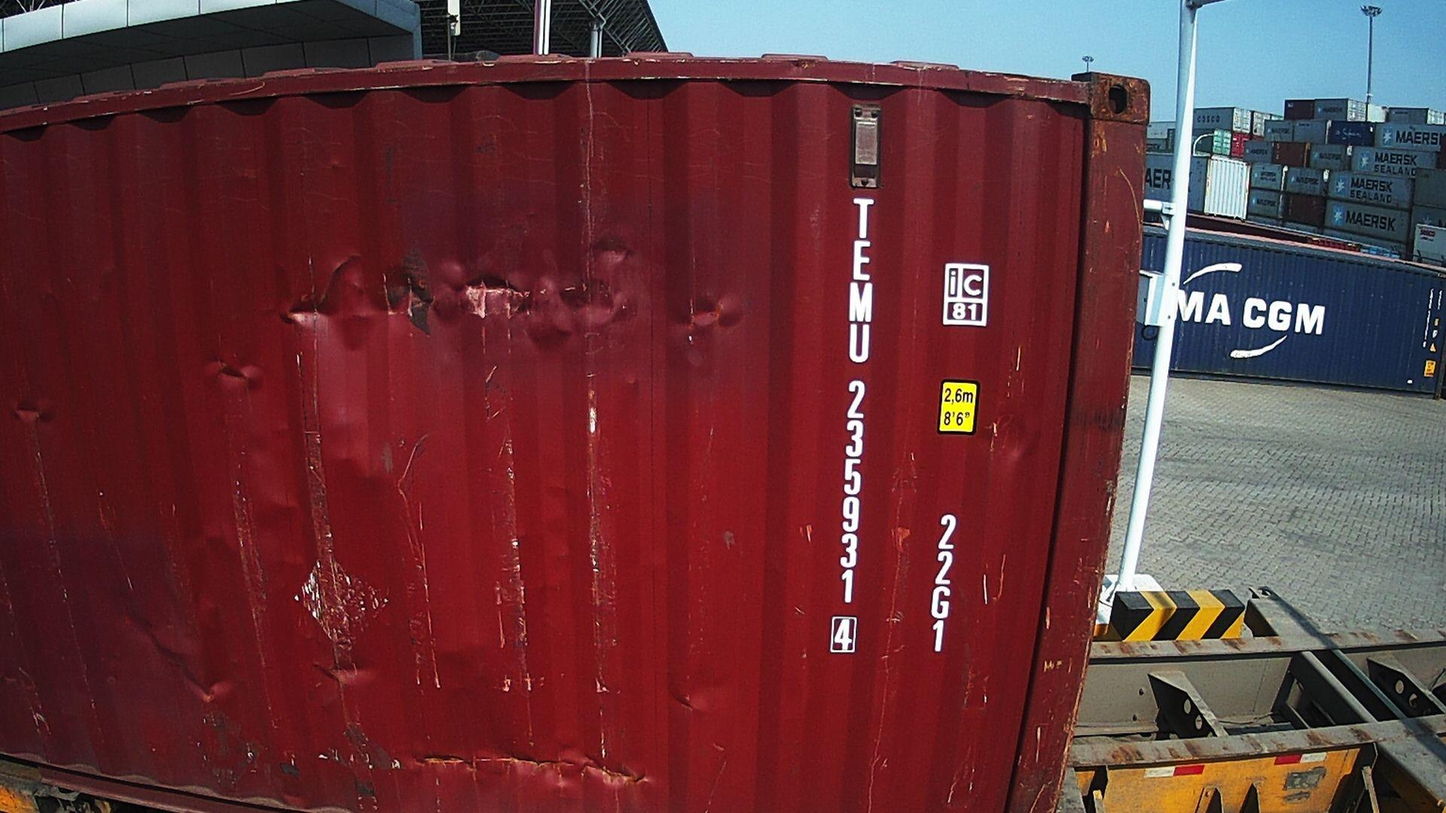container-numbers: (827, 194, 876, 662), (926, 508, 957, 660)
